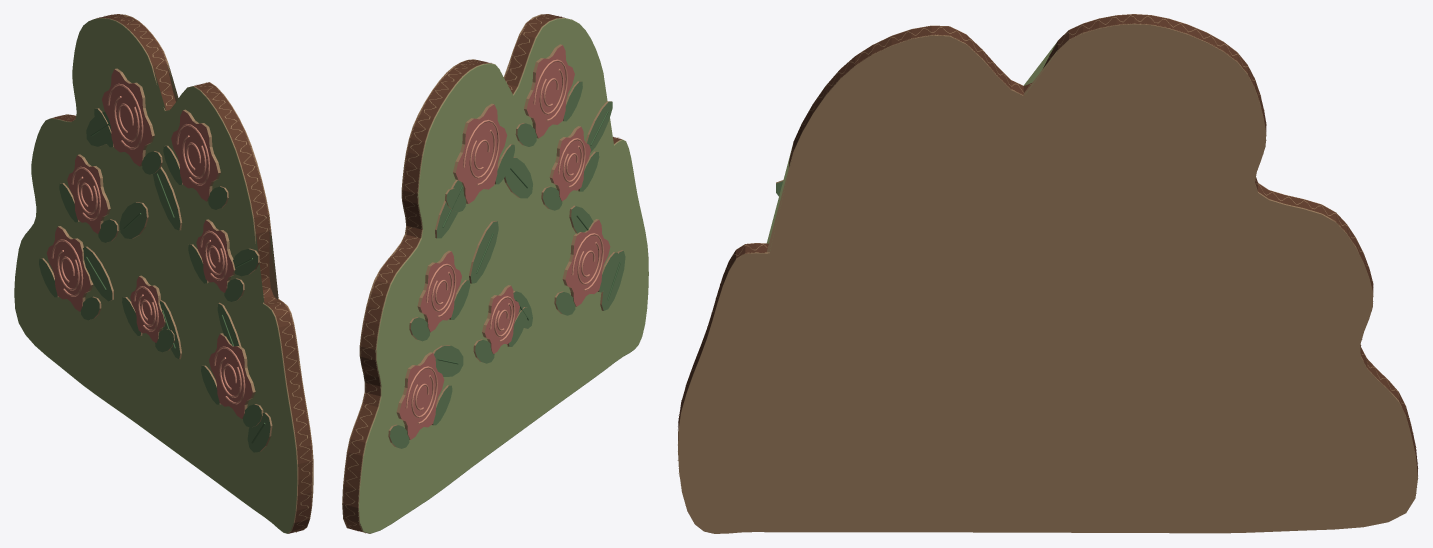
The model's file is SM_Menu_RoseWagonScenery.fbx.
3 views of the same model, side by side, from view 1: azimuth 30°, elevation 25°; view 2: azimuth 150°, elevation 25°; view 3: azimuth 270°, elevation 25° (orthographic). The views are drawn at different scales.
Parts seen in each view (by area): view 1: Rose Hedge Core.001_Baked; view 2: Rose Hedge Core.001_Baked; view 3: Rose Hedge Core.001_Baked.
Part boxes in pixels (bbox=[...]): Rose Hedge Core.001_Baked: bbox=[14, 14, 313, 533]; Rose Hedge Core.001_Baked: bbox=[342, 14, 648, 533]; Rose Hedge Core.001_Baked: bbox=[677, 14, 1418, 533].
Bounding box in the file's own units: 7.78 × 180 × 137.
